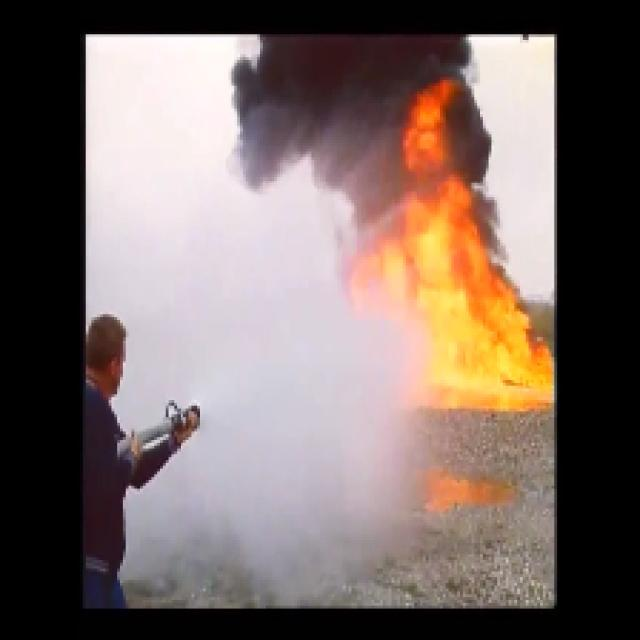fire: (419, 236, 539, 399), (259, 44, 394, 174)
